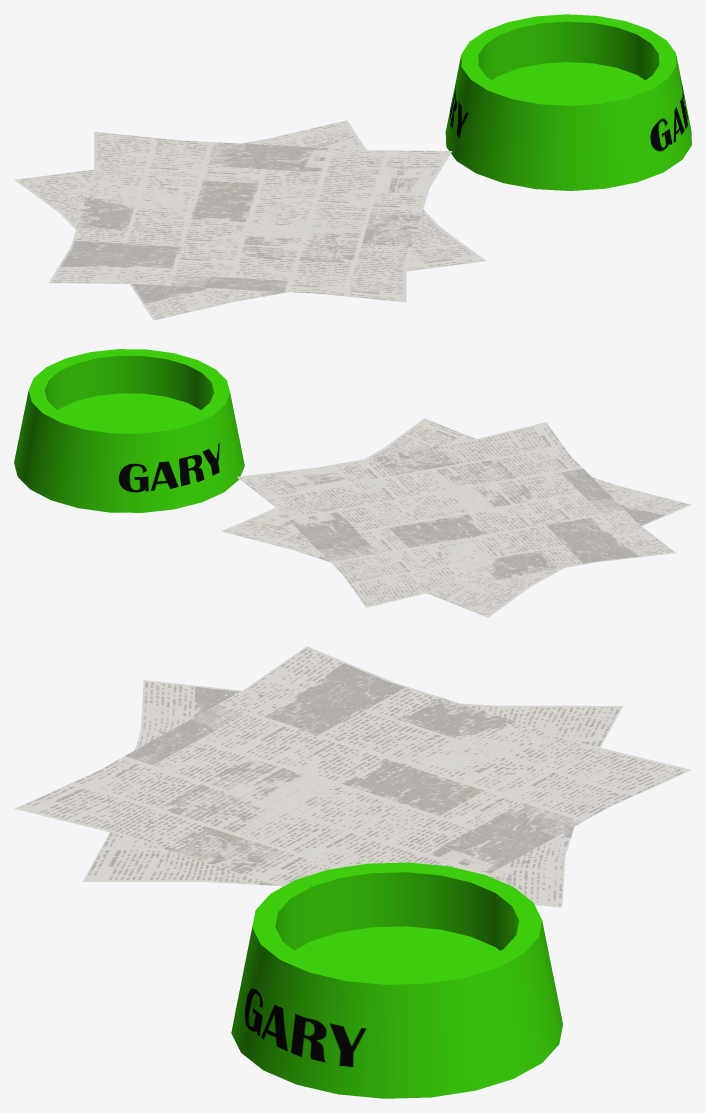
File: plato.obj
3 views of the same model, one above another, from view 1: azimuth 30°, elevation 25°; view 2: azimuth 150°, elevation 25°; view 3: azimuth 270°, elevation 25° (orthographic). The views are drawn at different scales.
Visible parts, largest first — view 1: Ball1polySurface103; view 2: Ball1polySurface103; view 3: Ball1polySurface103.
Boxes of the visible parts, x1,y1,x2,y2 form: Ball1polySurface103: (14,14,691,320); Ball1polySurface103: (14,349,691,617); Ball1polySurface103: (14,646,691,1098).
Size of the model in its own units: 4.12 by 0.4676 by 2.73.
